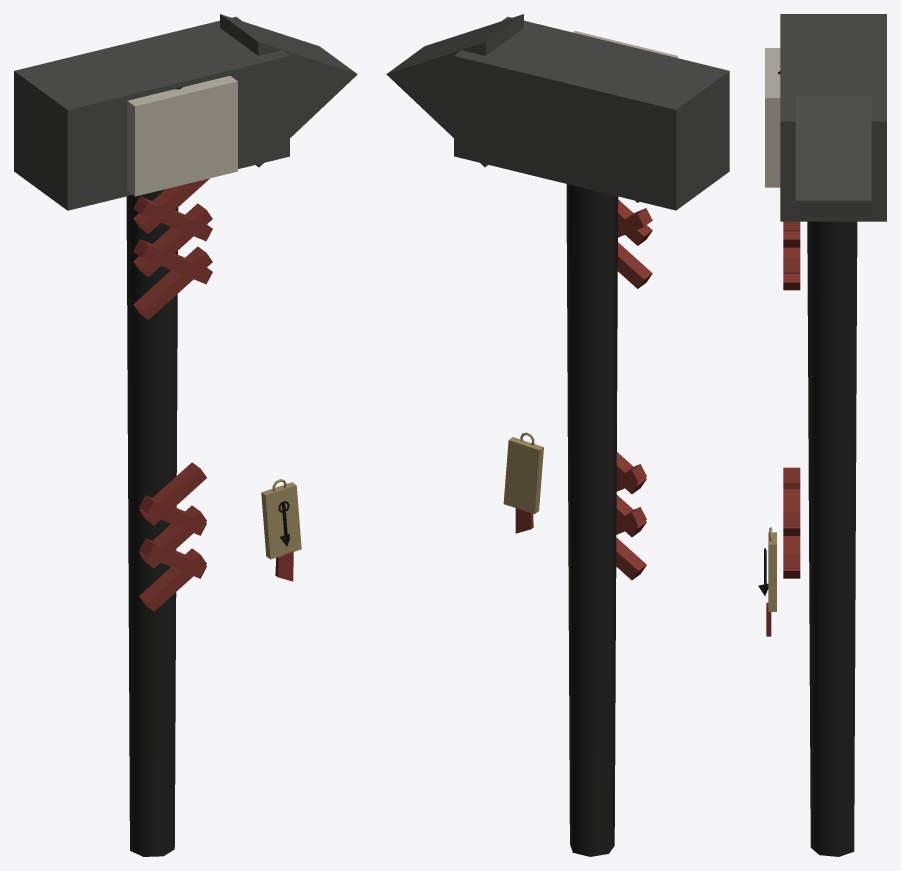
The model's file is fantasy-faceted-war-hammer-v1.glb.
The picture shows the model from 3 angles, left to right: view 1: azimuth 30°, elevation 25°; view 2: azimuth 150°, elevation 25°; view 3: azimuth 270°, elevation 25°; orthographic projection.
Visible parts, largest first — view 1: War Hammer; view 2: War Hammer; view 3: War Hammer.
Boxes of the visible parts, <box> form: War Hammer: <box>14,14,357,856</box>; War Hammer: <box>386,14,729,856</box>; War Hammer: <box>758,14,886,856</box>.
Bounding box in the file's own units: 1.8 × 4.6 × 0.6769.
